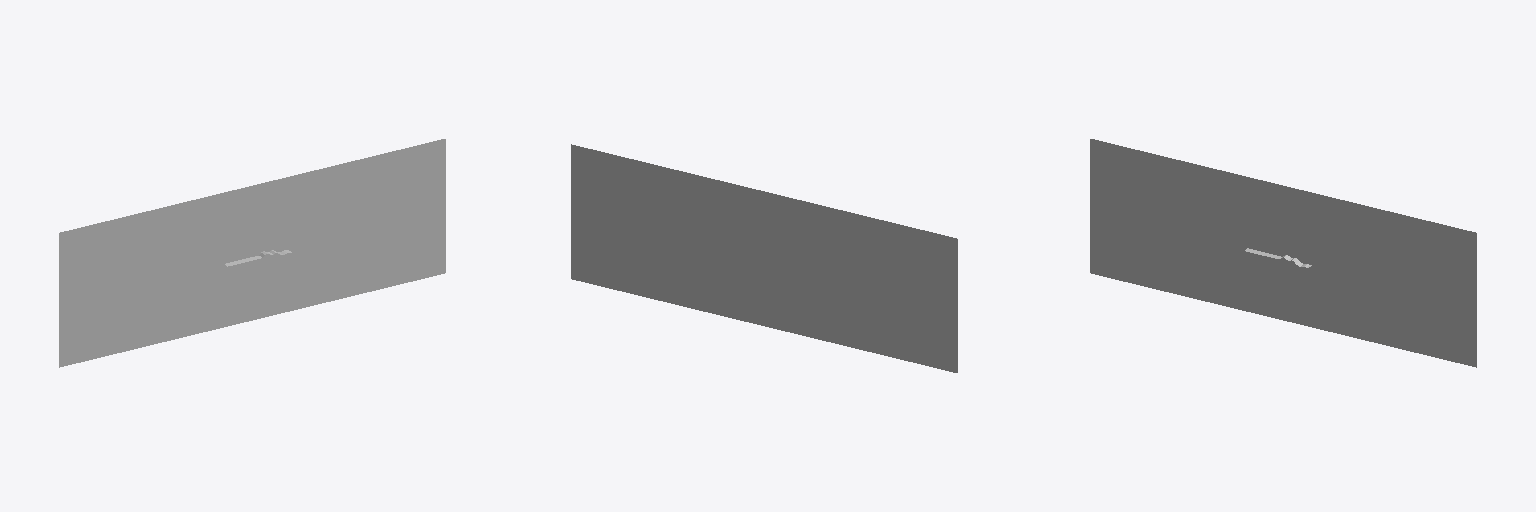
The model's file is level00.obj.
The picture shows the model from 3 angles: view 1: azimuth 30°, elevation 25°; view 2: azimuth 150°, elevation 25°; view 3: azimuth 330°, elevation 25°; orthographic projection.
Parts seen in each view (by area): view 1: Plane.001; view 2: Plane.001; view 3: Plane.001.
Boxes of the visible parts, x1,y1,x2,y2 form: Plane.001: [59, 139, 445, 367]; Plane.001: [571, 144, 957, 372]; Plane.001: [1090, 139, 1476, 367].
Bounding box in the file's own units: 120 × 40 × 4.16.